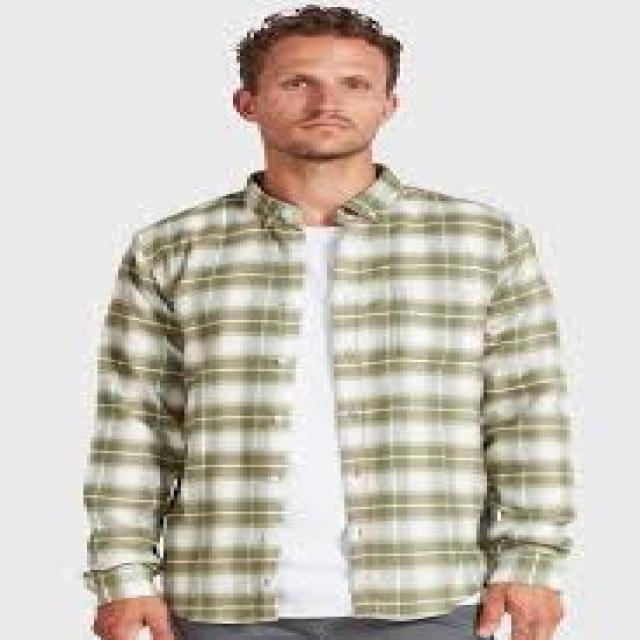plaid: (50, 180, 608, 630)
